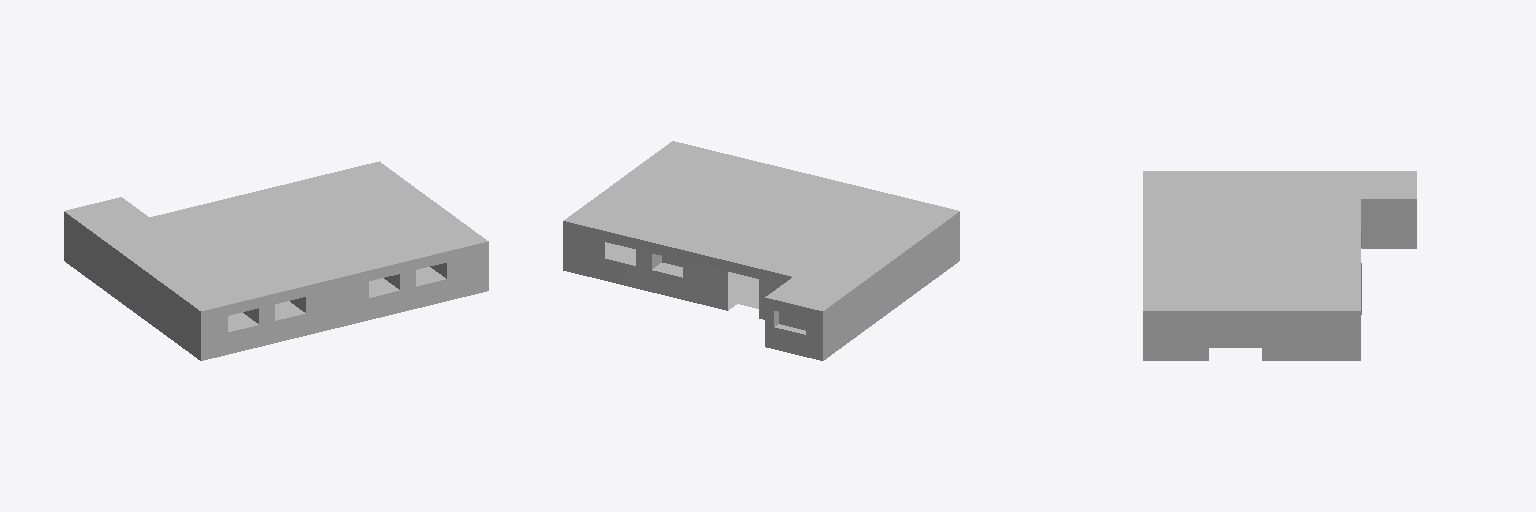
File: dehydration_room.obj
3 renders of one model, left to right at view 1: azimuth 30°, elevation 25°; view 2: azimuth 150°, elevation 25°; view 3: azimuth 270°, elevation 25°, orthographic.
Visible parts, largest first — view 1: ___; view 2: ___, ___.8; view 3: ___, ___.2.
Boxes of the visible parts, box(x1,y1,x2,y2) form: ___: box(64, 161, 488, 360); ___: box(563, 141, 959, 360); ___.8: box(774, 311, 805, 334); ___: box(1143, 171, 1416, 360); ___.2: box(1209, 322, 1261, 347).
Bounding box in the file's own units: 6865 × 995 × 4980.